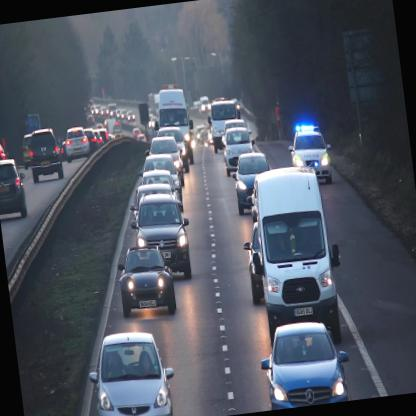car: (254, 316, 352, 410), (84, 327, 180, 415), (128, 188, 197, 286), (115, 244, 176, 322), (230, 150, 274, 218), (286, 126, 334, 187), (138, 152, 184, 212), (143, 134, 185, 188), (26, 126, 64, 184), (221, 126, 258, 178), (0, 156, 29, 221), (157, 126, 190, 175), (62, 124, 92, 163)
truck: (250, 162, 342, 350), (155, 86, 195, 166), (208, 100, 242, 156)
